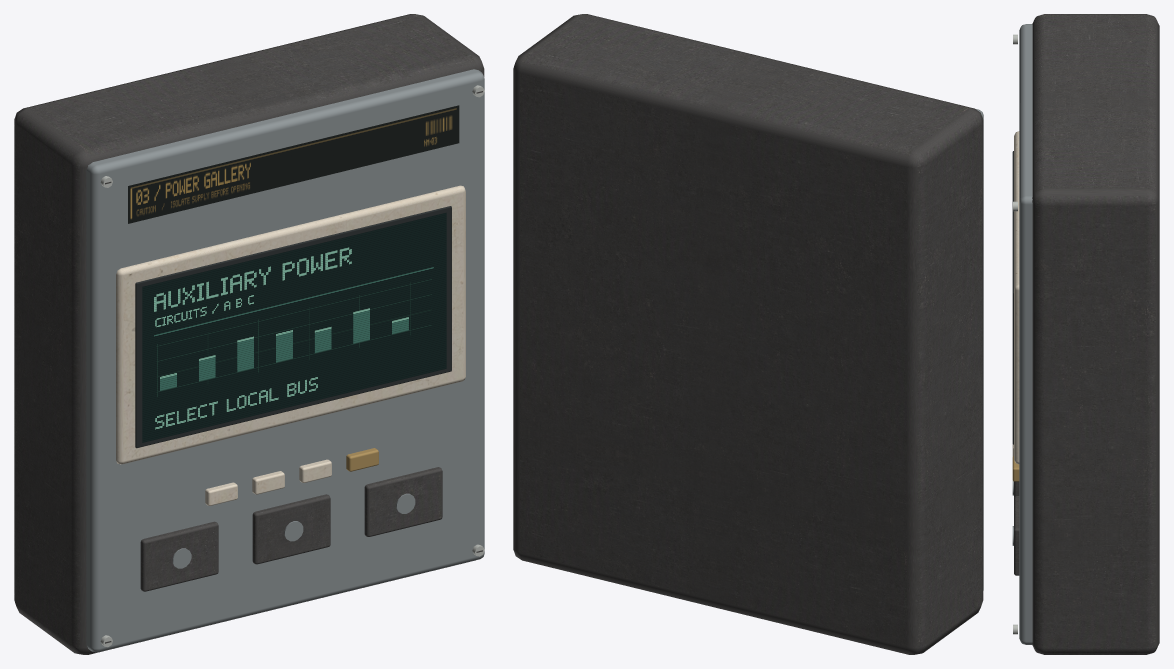
Rendered from power-console.glb.
3 renders of one model, left to right at view 1: azimuth 30°, elevation 25°; view 2: azimuth 150°, elevation 25°; view 3: azimuth 270°, elevation 25°, orthographic. The views are drawn at different scales.
Parts seen in each view (by area): view 1: wall-housing; view 2: wall-housing; view 3: wall-housing.
Part boxes in pixels (x1,y1,x2,y2): wall-housing: (14,14,484,654); wall-housing: (513,14,983,654); wall-housing: (1012,14,1159,654).
Bounding box in the file's own units: 0.92 × 1.08 × 0.31.
Materials: 8 (4 with a texture image).
